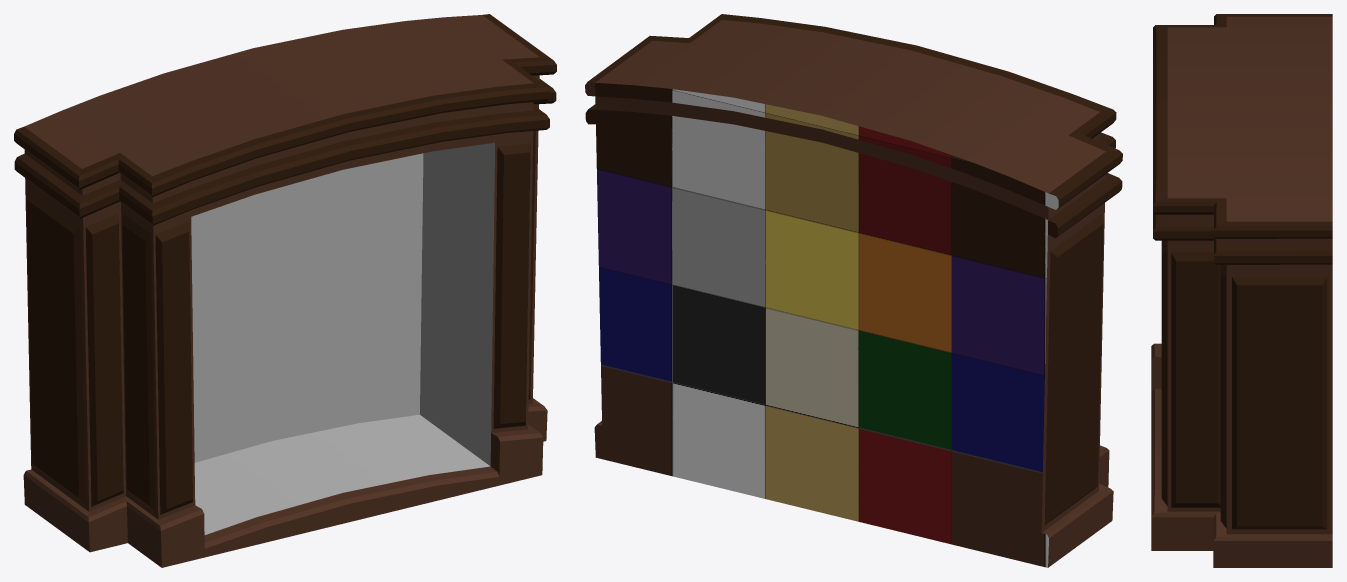
The model's file is LibraryFireplace.fbx.
The picture shows the model from 3 angles, left to right: view 1: azimuth 30°, elevation 25°; view 2: azimuth 150°, elevation 25°; view 3: azimuth 270°, elevation 25°; orthographic projection. The views are drawn at different scales.
Visible parts, largest first — view 1: FireplaceUVd:pCube20; view 2: FireplaceUVd:pCube20; view 3: FireplaceUVd:pCube20.
Part boxes in pixels (box(x1,y1,x2,y2)): FireplaceUVd:pCube20: box(14, 14, 556, 567); FireplaceUVd:pCube20: box(585, 14, 1122, 567); FireplaceUVd:pCube20: box(1151, 14, 1332, 567).
Bounding box in the file's own units: 225 × 181 × 80.73.
